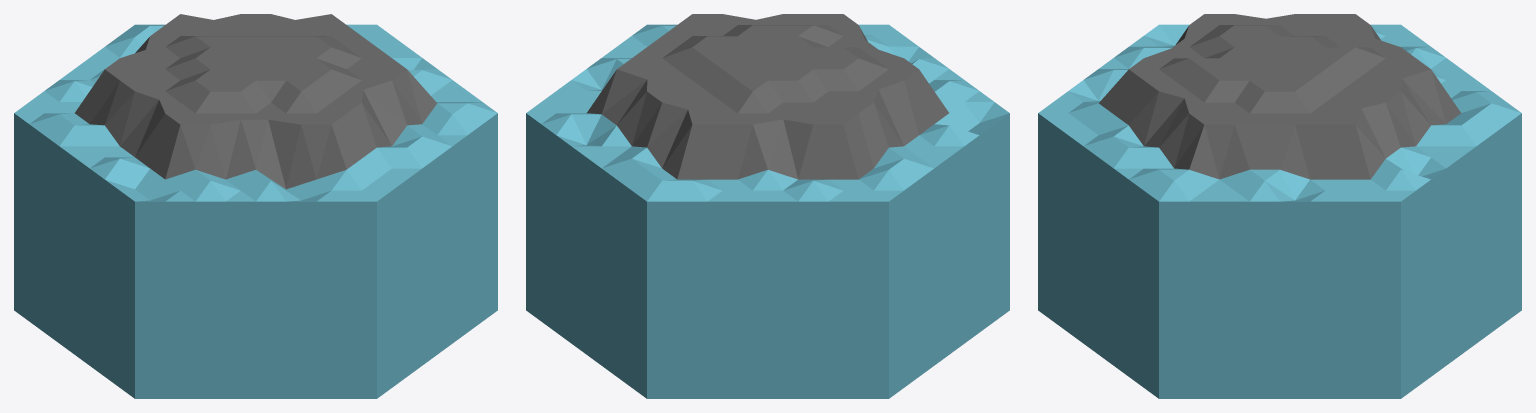
The model's file is water_island.fbx.
3 renders of one model, left to right at view 1: azimuth 30°, elevation 25°; view 2: azimuth 150°, elevation 25°; view 3: azimuth 270°, elevation 25°, orthographic.
Visible parts, largest first — view 1: Cylinder; view 2: Cylinder; view 3: Cylinder.
Boxes of the visible parts, x1,y1,x2,y2 form: Cylinder: [14, 14, 497, 398]; Cylinder: [526, 14, 1009, 398]; Cylinder: [1038, 14, 1521, 398].
Bounding box in the file's own units: 1.73 × 1.15 × 2.
